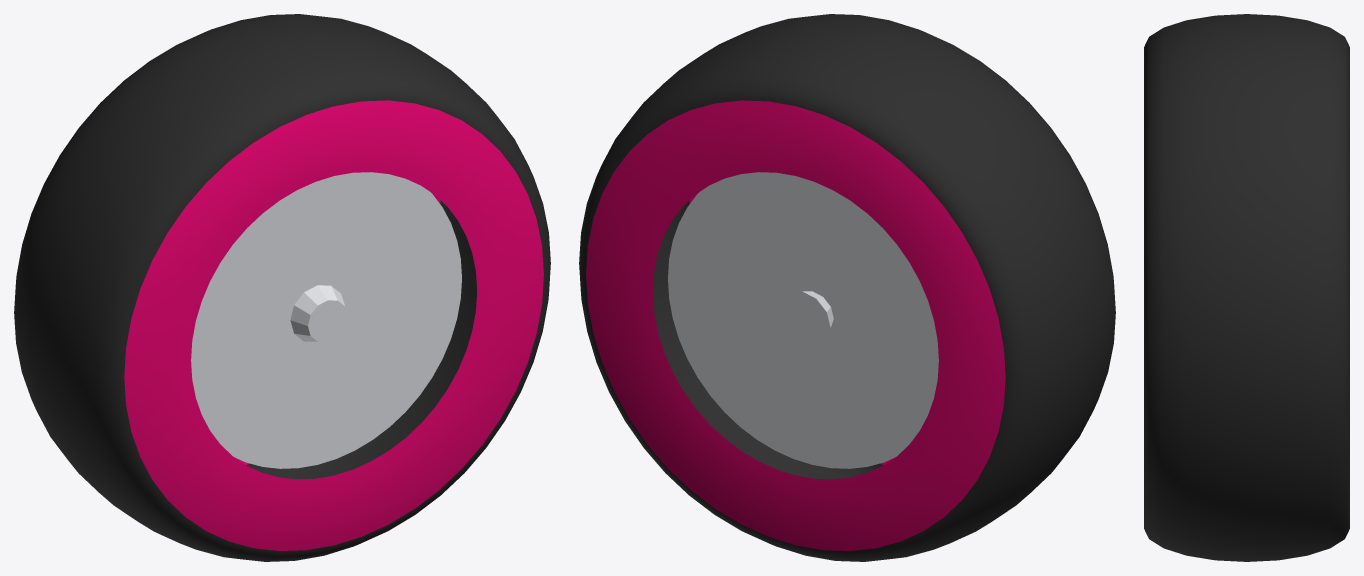
Rendered from undercut.glb.
3 renders of one model, left to right at view 1: azimuth 30°, elevation 25°; view 2: azimuth 150°, elevation 25°; view 3: azimuth 270°, elevation 25°, orthographic.
Parts seen in each view (by area): view 1: undercut; view 2: undercut; view 3: undercut.
Part boxes in pixels (left/top/right/bottom): undercut: left=14, top=14, right=550, bottom=561; undercut: left=579, top=14, right=1115, bottom=561; undercut: left=1144, top=14, right=1349, bottom=561.
Bounding box in the file's own units: 6.4 × 6.4 × 2.4.
